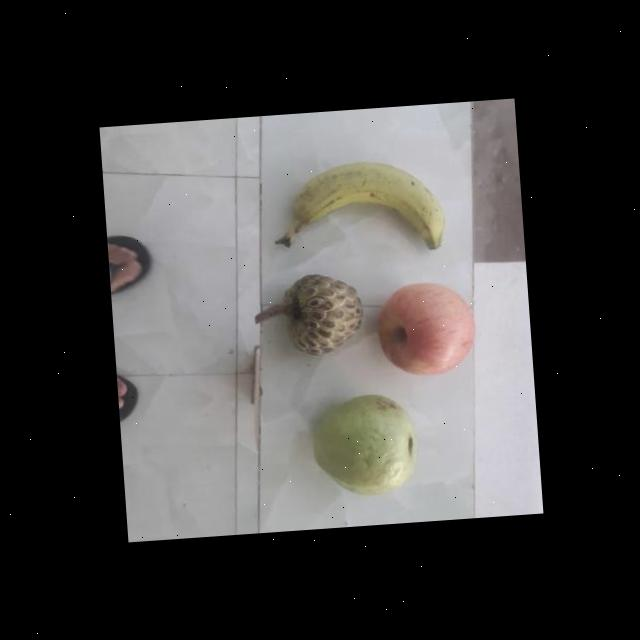Sakya fruit: (268, 271, 365, 361)
apple: (373, 278, 476, 382)
banana: (280, 158, 444, 260)
guava: (312, 394, 418, 501)
